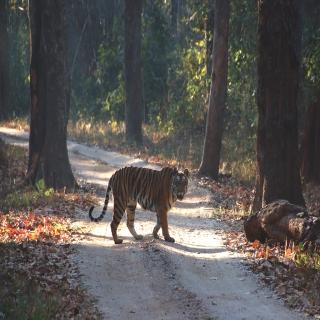Tiger: (87, 164, 189, 244)
